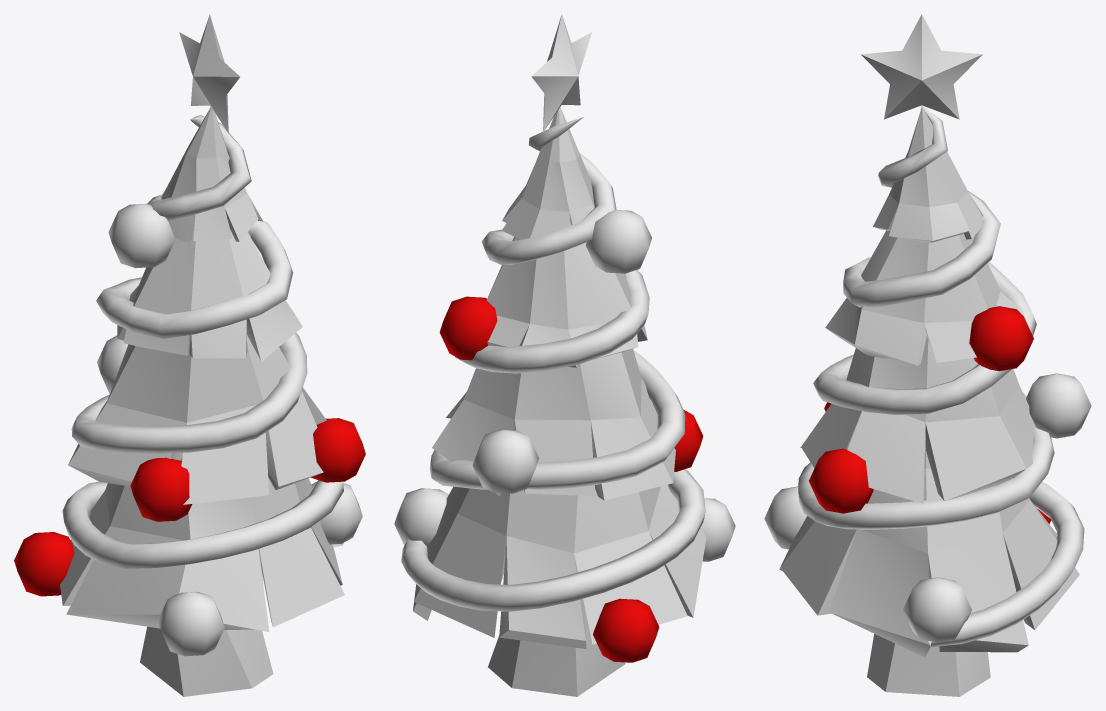
The model's file is cristmas_tree.fbx.
The picture shows the model from 3 angles, left to right: view 1: azimuth 30°, elevation 25°; view 2: azimuth 150°, elevation 25°; view 3: azimuth 270°, elevation 25°; orthographic projection.
Visible parts, largest first — view 1: tree_fir_big, Sphere_7, Disc; view 2: tree_fir_big, Sphere_7, Disc; view 3: tree_fir_big, Sphere_7, Disc.
Boxes of the visible parts, box(x1,y1,x2,y2) form: tree_fir_big: box(60, 107, 344, 696); Sphere_7: box(14, 115, 365, 656); Disc: box(179, 14, 239, 132); tree_fir_big: box(413, 107, 706, 696); Sphere_7: box(394, 117, 735, 662); Disc: box(531, 14, 591, 132); tree_fir_big: box(779, 106, 1079, 696); Sphere_7: box(764, 105, 1091, 647); Disc: box(861, 14, 982, 119).
Size of the model in its own units: 454 by 948 by 429.
